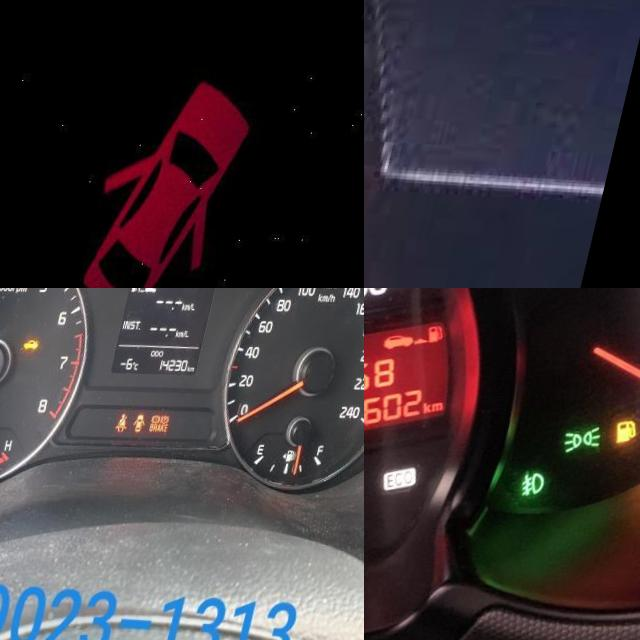FrontFogLight: (536, 465, 566, 493)
Low fuel level: (628, 413, 640, 439)
SideLamp: (576, 419, 620, 450)
